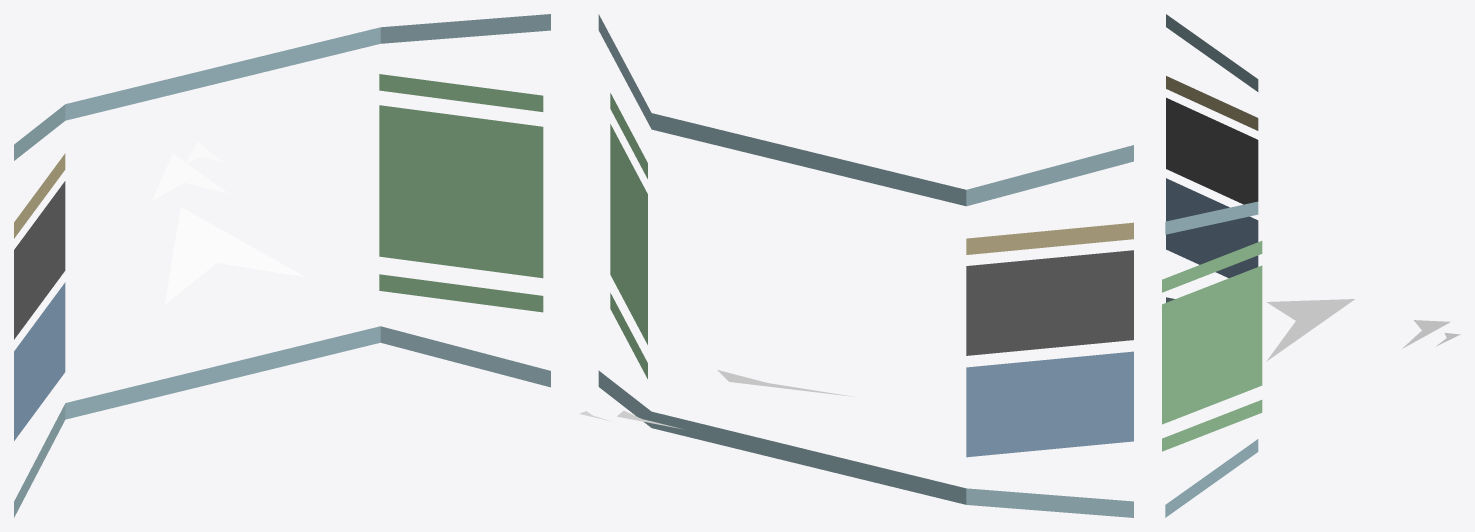
File: hud.glb
3 views of the same model, side by side, from view 1: azimuth 30°, elevation 25°; view 2: azimuth 150°, elevation 25°; view 3: azimuth 270°, elevation 25° (orthographic). The views are drawn at different scales.
Parts seen in each view (by area): view 1: Plane.007, Plane.009, Plane.008, Plane, Plane.003, AR Nav 1.001, Plane.010, Plane.005, AR Nav 1.002, Plane.004; view 2: Plane, Plane.003, Plane.008, Plane.009, Plane.007, Plane.004, Plane.010, Plane.005; view 3: Plane.007, Plane, Plane.003, Plane.008, AR Nav 1.001, Plane.005, Plane.010, Plane.009, Plane.004, AR Nav 1.002.
Boxes of the visible parts, <box> form: Plane.007: <box>379,105,543,278</box>; Plane.009: <box>14,326,550,517</box>; Plane.008: <box>14,14,550,160</box>; Plane: <box>14,181,65,339</box>; Plane.003: <box>14,282,65,440</box>; AR Nav 1.001: <box>165,207,304,304</box>; Plane.010: <box>379,274,543,312</box>; Plane.005: <box>379,74,543,111</box>; AR Nav 1.002: <box>152,154,227,200</box>; Plane.004: <box>14,153,65,238</box>; Plane: <box>966,250,1133,355</box>; Plane.003: <box>966,351,1133,457</box>; Plane.008: <box>598,14,1133,206</box>; Plane.009: <box>598,370,1133,517</box>; Plane.007: <box>610,124,647,344</box>; Plane.004: <box>966,222,1133,254</box>; Plane.010: <box>610,293,647,378</box>; Plane.005: <box>610,93,647,178</box>; Plane.007: <box>1162,265,1262,424</box>; Plane: <box>1166,97,1258,204</box>; Plane.003: <box>1166,178,1258,278</box>; Plane.008: <box>1165,14,1258,234</box>; AR Nav 1.001: <box>1266,299,1354,361</box>; Plane.005: <box>1162,241,1262,292</box>; Plane.010: <box>1162,400,1262,451</box>; Plane.009: <box>1165,297,1258,517</box>; Plane.004: <box>1166,76,1258,130</box>; AR Nav 1.002: <box>1402,320,1450,348</box>.
Bounding box in the file's own units: 1.25 × 0.8299 × 0.7584.
